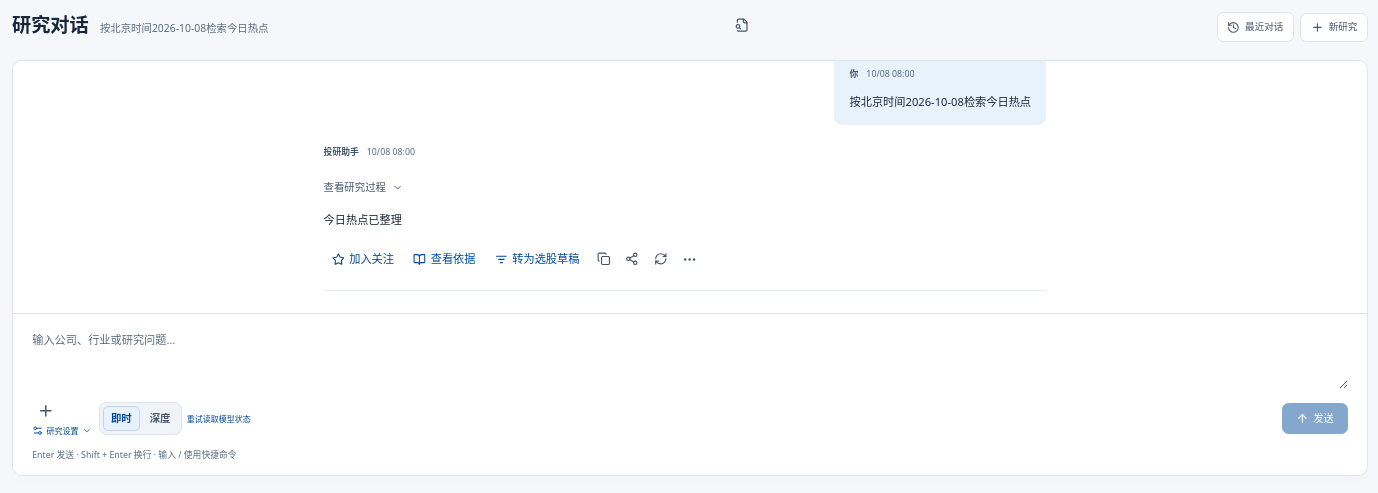
unrestricted research follow-ups › keeps the draft and never submits under hidden limits if scope clearing is reject
This screenshot has width=1378, height=493.
(page scrolled)
Expected: the text "今日热点已整理" is shown, [324, 212, 402, 227]
In the text box named "研究要求": (690, 358) [32, 327, 1348, 389], type "继续研究最新政策"
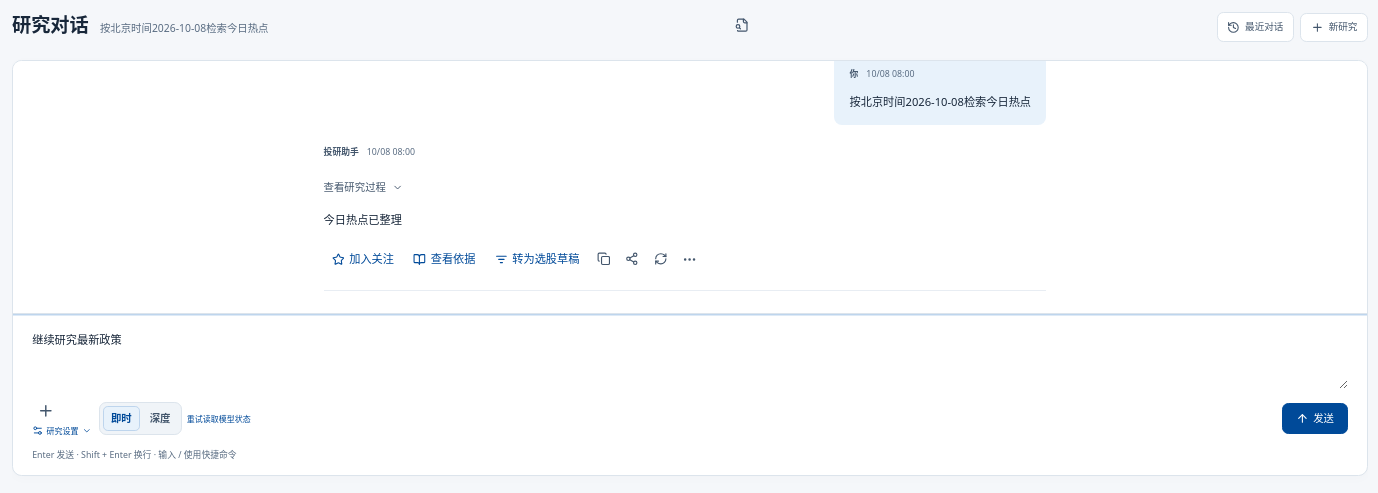
Click the button "发送": (1315, 418) [1282, 403, 1348, 434]
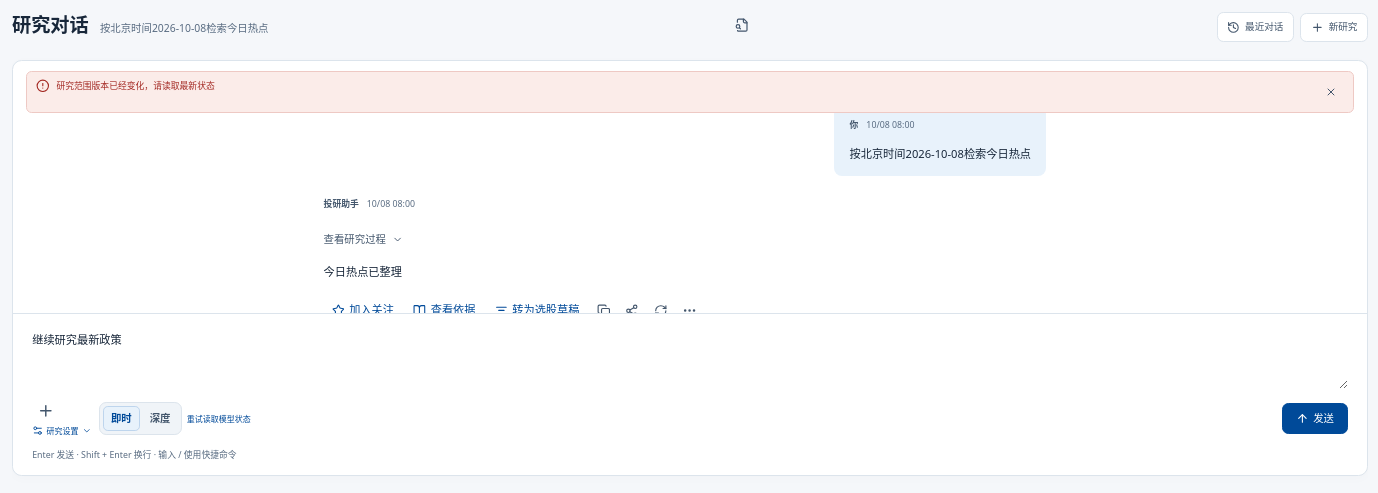
Expected: the button "发送" is enabled
Expected: the text "研究范围版本已经变化，请读取最新状态" is shown, [56, 80, 215, 92]
Click the button "发送": (1315, 418) [1282, 403, 1348, 434]
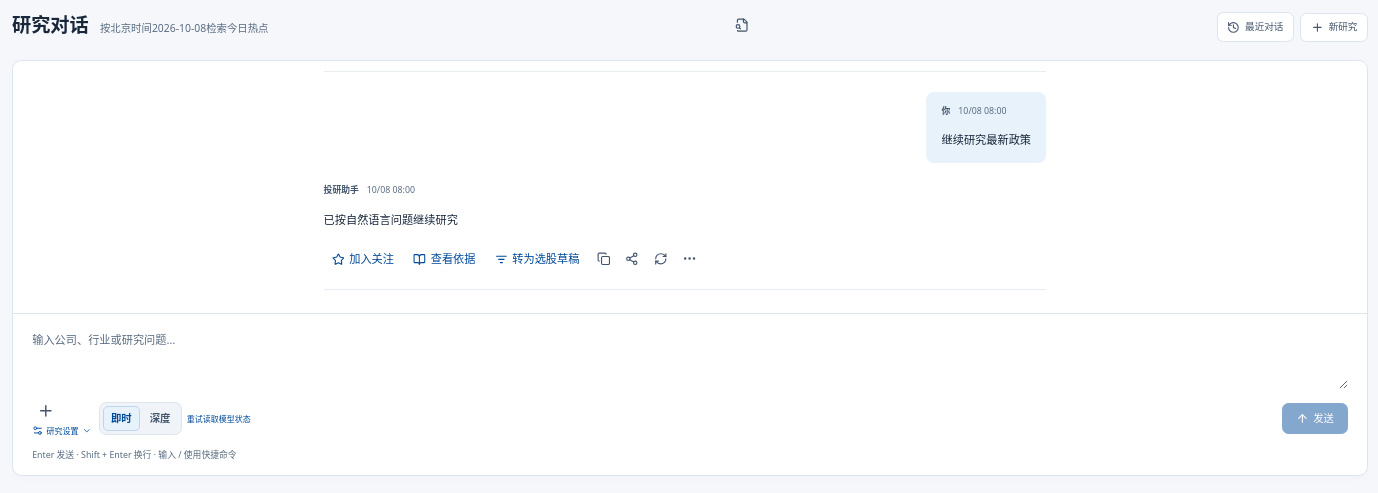
Expected: the text "已按自然语言问题继续研究" is shown, [324, 212, 458, 227]
